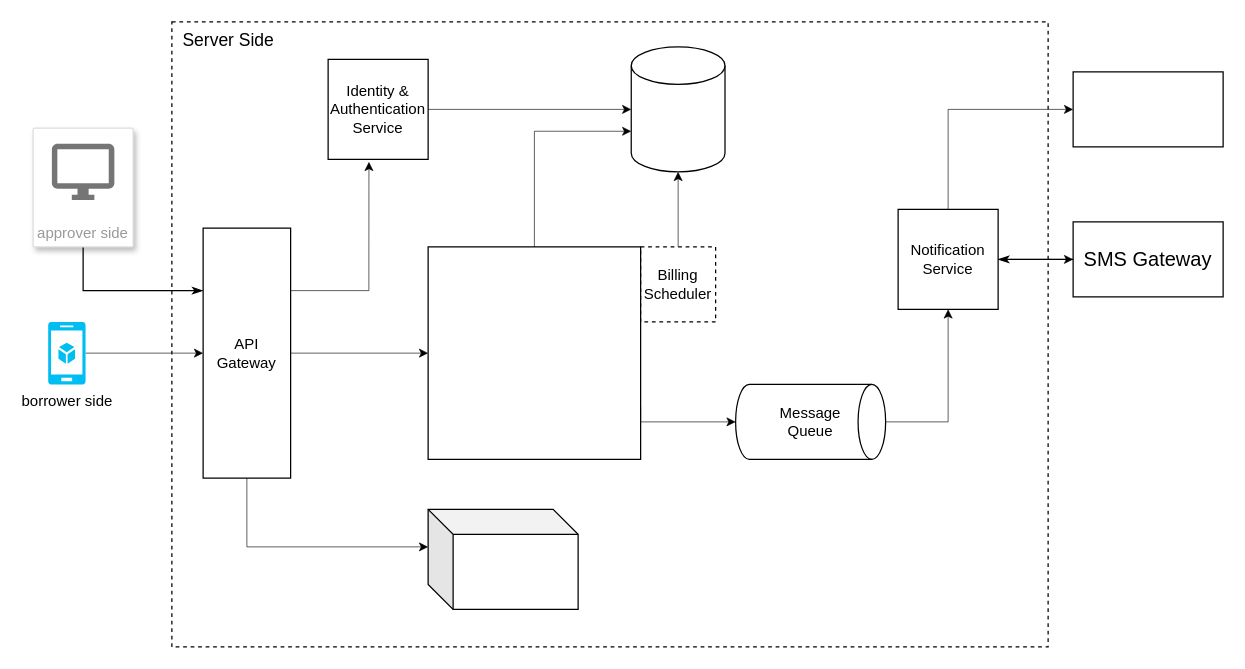
Image size: 1245x669. Some labels were removed from this diagram. Each missing label, with the centre of its shape:
Business Service: pixel 534 352
Database: pixel 677 109
File Server: pixel 502 558
SMTP Server: pixel 1147 109
